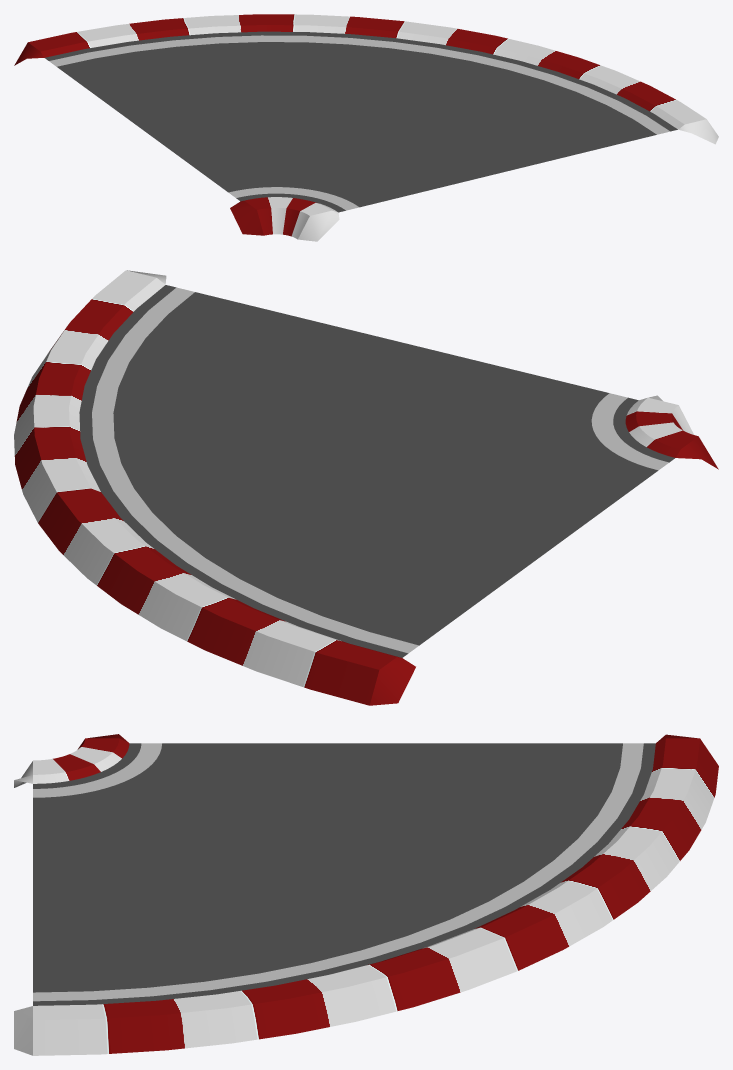
Rendered from Track_Right_Low.FBX.
3 renders of one model, top to bottom at view 1: azimuth 30°, elevation 25°; view 2: azimuth 150°, elevation 25°; view 3: azimuth 270°, elevation 25°, orthographic. The views are drawn at different scales.
Parts seen in each view (by area): view 1: Track_Right_Low, Track_Right_Low_Apex_Left, Track_Right_Low_Apex_Right; view 2: Track_Right_Low, Track_Right_Low_Apex_Left, Track_Right_Low_Apex_Right; view 3: Track_Right_Low, Track_Right_Low_Apex_Left, Track_Right_Low_Apex_Right.
Part boxes in pixels (x1,y1,x2,y2): Track_Right_Low: (45,31,677,212); Track_Right_Low_Apex_Left: (14,14,718,144); Track_Right_Low_Apex_Right: (230,197,339,241); Track_Right_Low: (79,285,674,657); Track_Right_Low_Apex_Left: (14,270,415,705); Track_Right_Low_Apex_Right: (625,395,718,469); Track_Right_Low: (33,743,655,1005); Track_Right_Low_Apex_Left: (14,734,718,1055); Track_Right_Low_Apex_Right: (14,734,129,787).
Size of the model in its own units: 1118 by 48.08 by 1112.
Materials: 1 (1 with a texture image).
